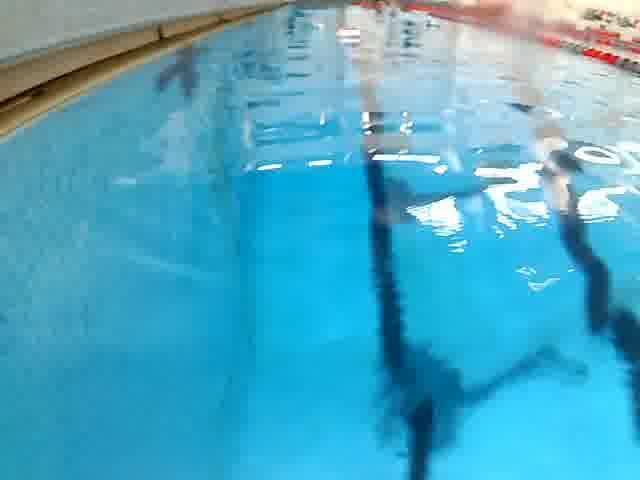Can: (332, 21, 370, 46)
